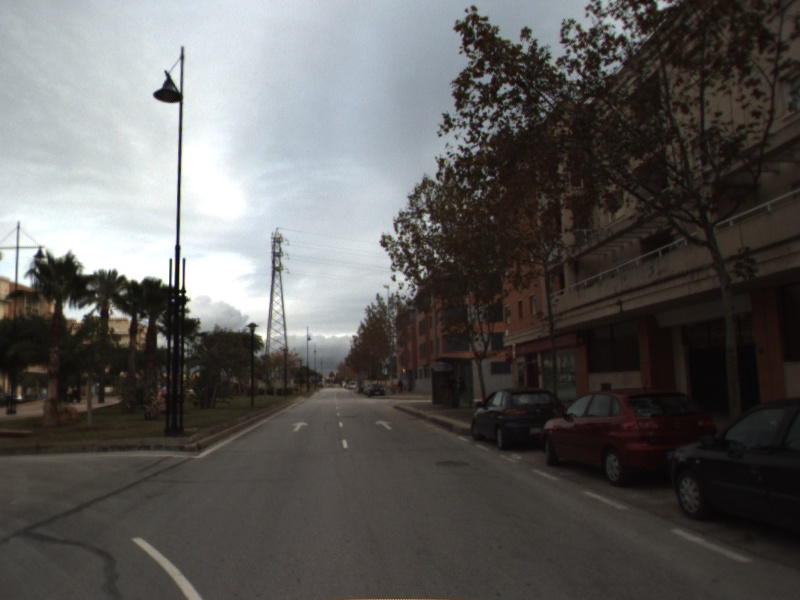STRAIGHT: (290, 419, 311, 434), (373, 418, 395, 432)
